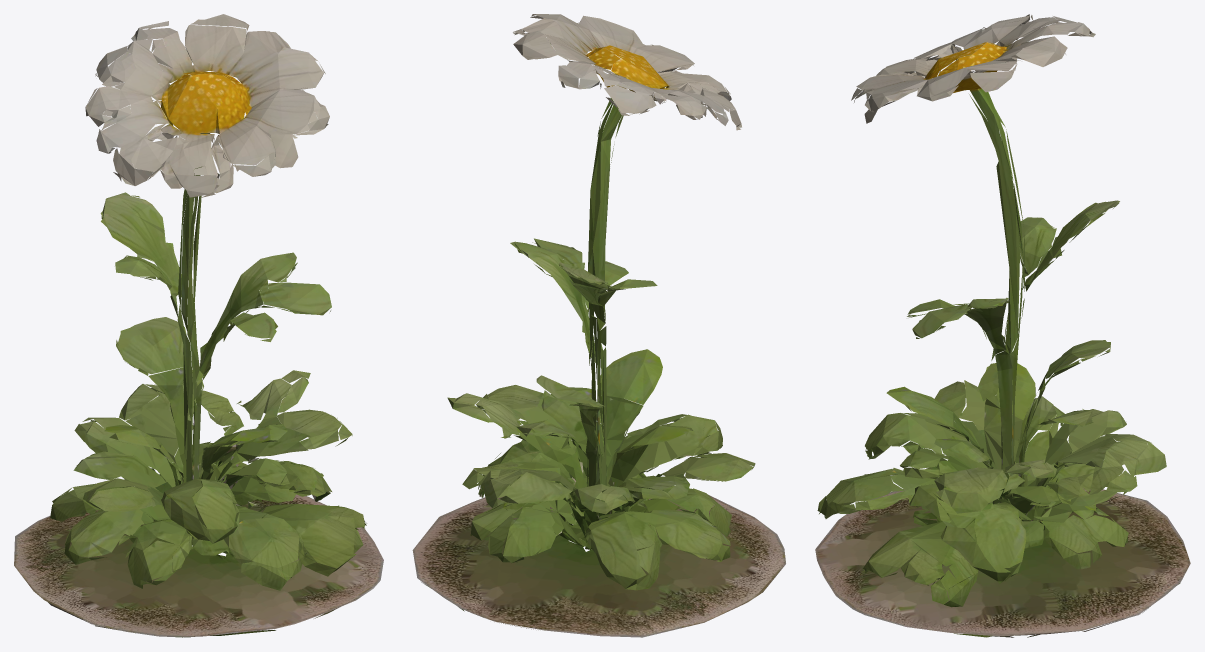
The model's file is daisy.glb.
3 renders of one model, left to right at view 1: azimuth 30°, elevation 25°; view 2: azimuth 150°, elevation 25°; view 3: azimuth 270°, elevation 25°, orthographic. The views are drawn at different scales.
Visible parts, largest first — view 1: textured.obj; view 2: textured.obj; view 3: textured.obj.
Boxes of the visible parts, x1,y1,x2,y2 form: textured.obj: [14, 14, 383, 637]; textured.obj: [412, 14, 785, 637]; textured.obj: [815, 14, 1190, 637].
Size of the model in its own units: 0.128 by 0.2002 by 0.1275.
Materials: 1 (1 with a texture image).
